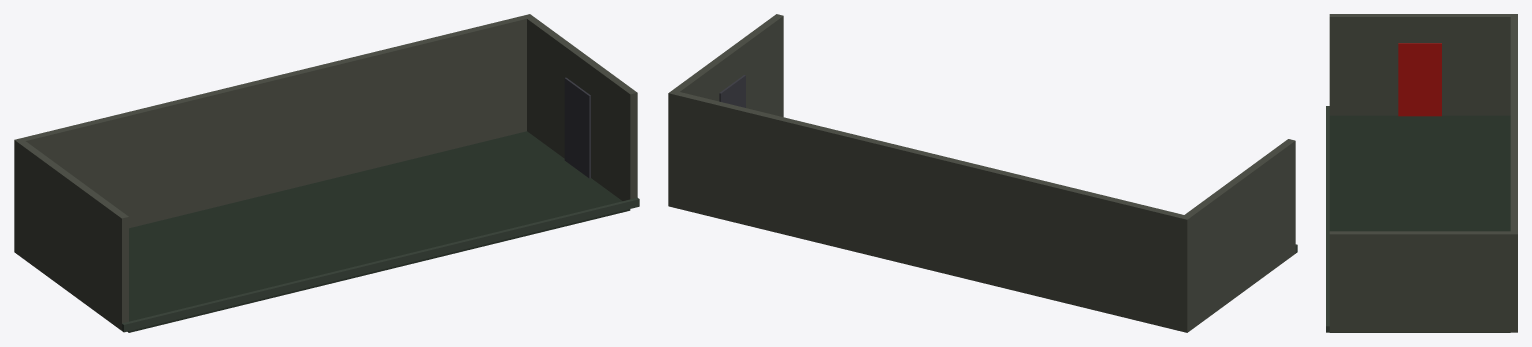
File: sewer_channel.obj
The picture shows the model from 3 angles, left to right: view 1: azimuth 30°, elevation 25°; view 2: azimuth 150°, elevation 25°; view 3: azimuth 270°, elevation 25°; orthographic projection. The views are drawn at different scales.
Size of the model in its own units: 14.4 by 3.1 by 5.3.
